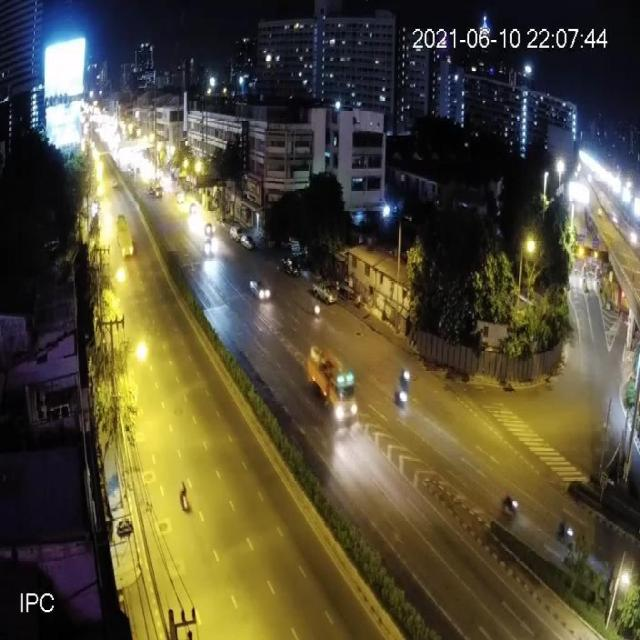Car: (249, 276, 272, 304), (203, 238, 219, 260), (204, 220, 216, 235)
Truck: (307, 343, 360, 426), (116, 209, 135, 261)
